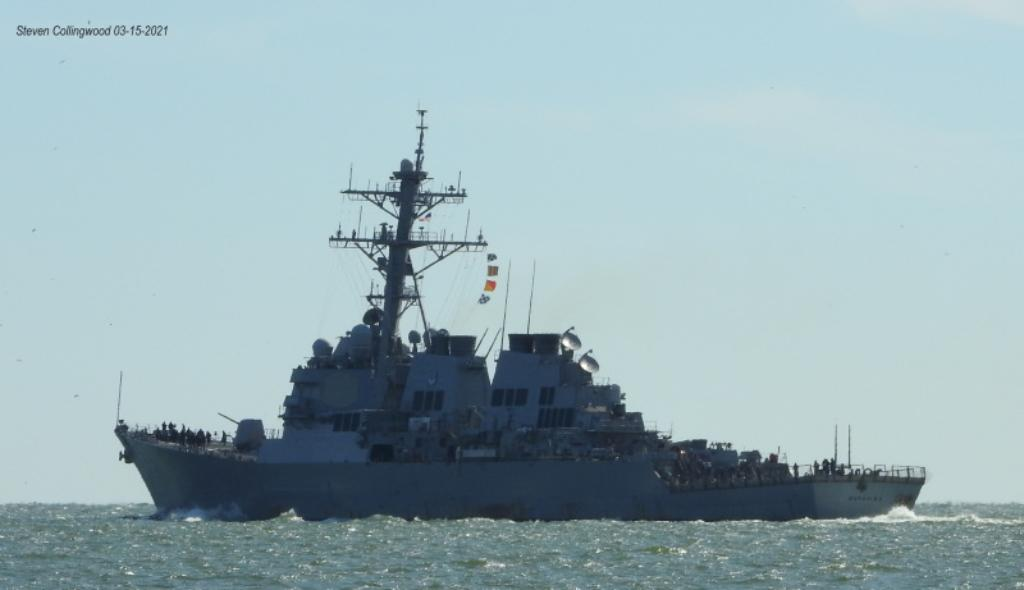Warship: (108, 103, 932, 526)
